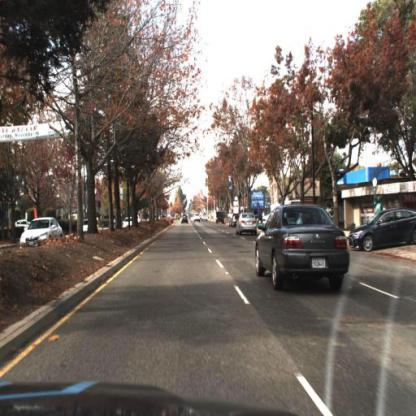car: (254, 201, 352, 295), (349, 207, 416, 256), (20, 216, 65, 256), (236, 212, 258, 239), (11, 217, 32, 232), (193, 211, 204, 228), (182, 214, 192, 232)
